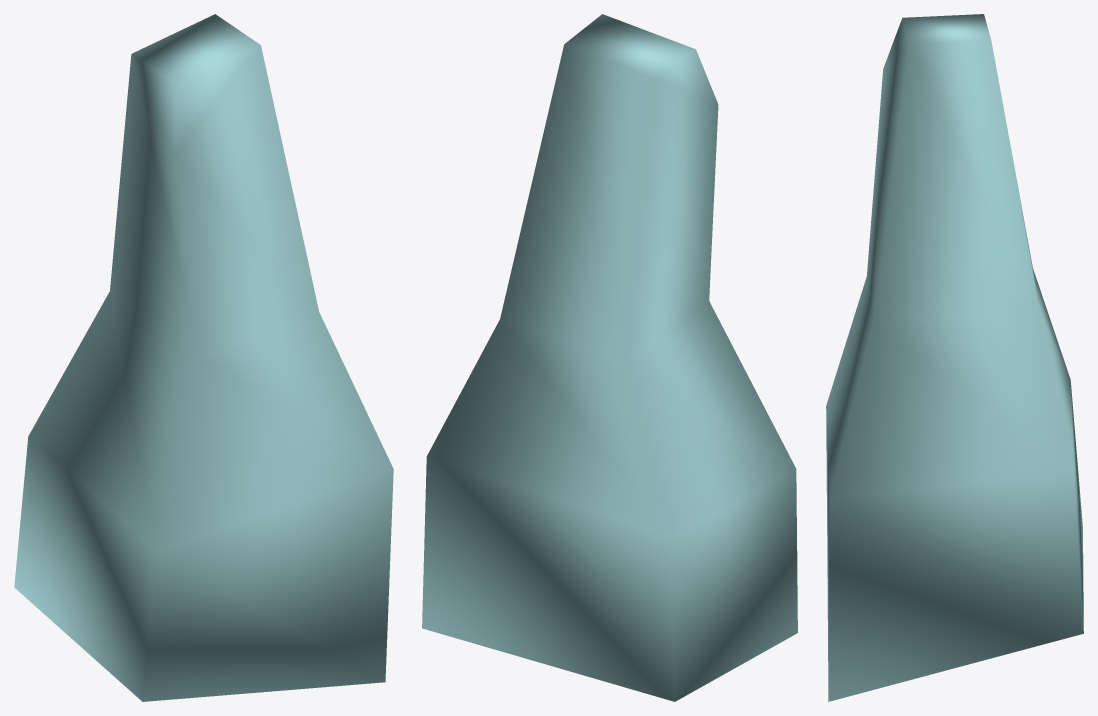
The model's file is Skelly_f_pinky.03.R.fbx.
3 renders of one model, left to right at view 1: azimuth 30°, elevation 25°; view 2: azimuth 150°, elevation 25°; view 3: azimuth 270°, elevation 25°, orthographic. The views are drawn at different scales.
Parts seen in each view (by area): view 1: Skelly_f_pinky.03.R; view 2: Skelly_f_pinky.03.R; view 3: Skelly_f_pinky.03.R.
Part boxes in pixels (x1,y1,x2,y2): Skelly_f_pinky.03.R: [14, 14, 393, 701]; Skelly_f_pinky.03.R: [422, 14, 797, 701]; Skelly_f_pinky.03.R: [826, 14, 1083, 701].
Size of the model in its own units: 0.9192 by 2.2 by 0.831.
